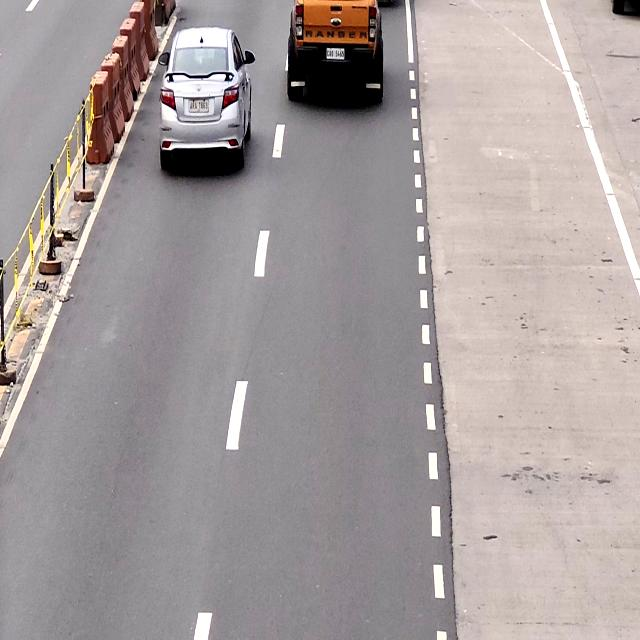Car: (161, 29, 248, 172), (287, 0, 383, 109)
License-Plate: (189, 98, 209, 114), (326, 47, 343, 62)
